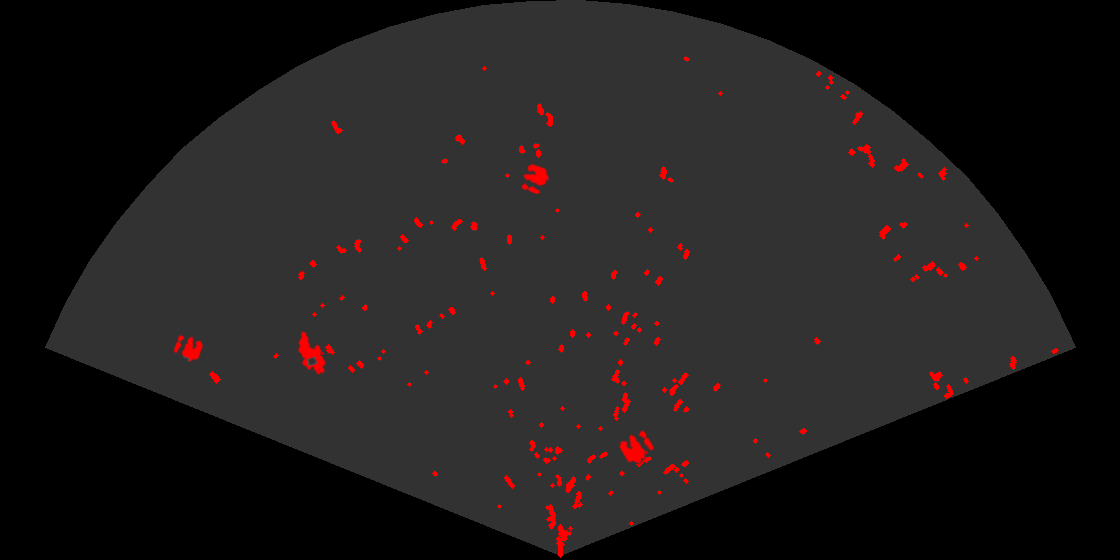AUV: (296, 329, 327, 376)
ball: (618, 429, 655, 465), (172, 333, 205, 364), (520, 162, 550, 196)
